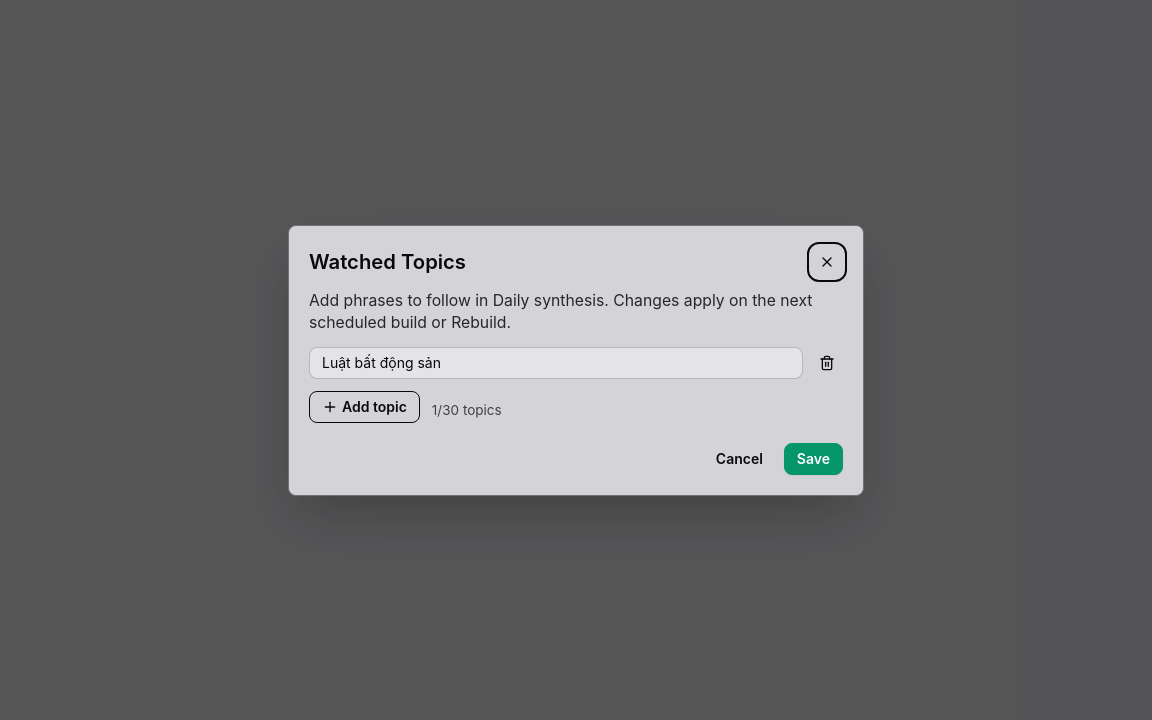
Test: Watched Topics editor › keeps edits on failed save and permits retry
Expected: the field named "Topic 1" is shown, x1=309 y1=346 x2=803 y2=378
Click the button "Save".
click(813, 458)  # box x1=784 y1=442 x2=843 y2=474
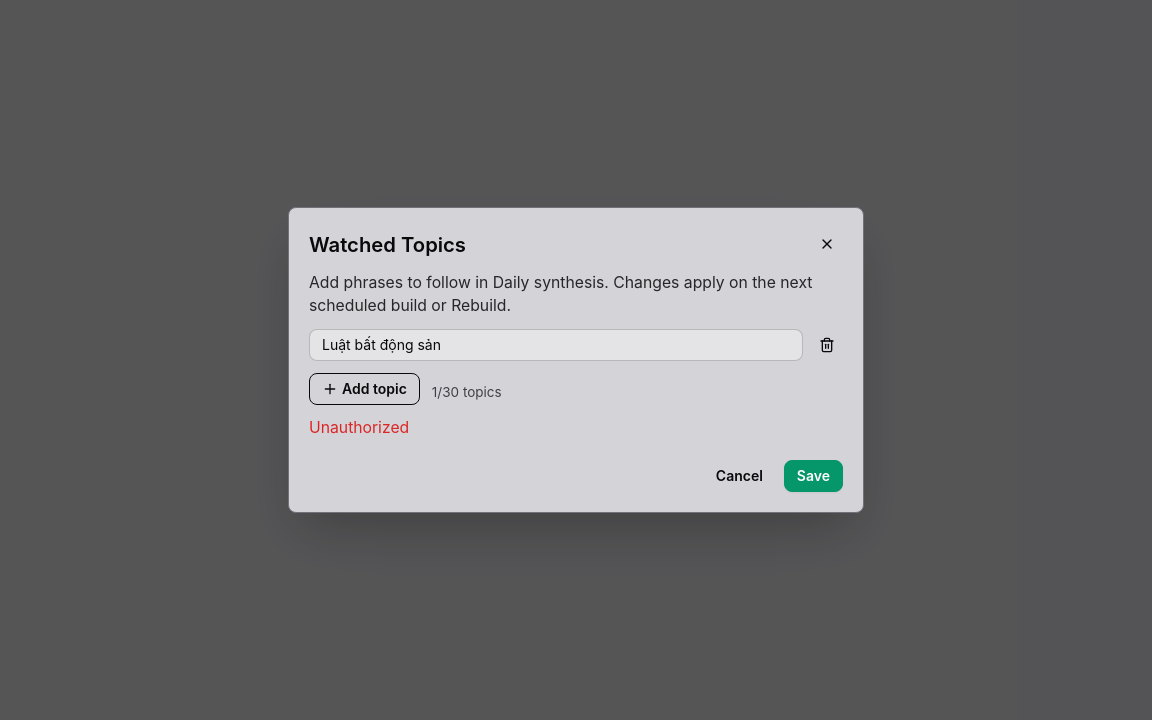
Expected: the field named "Topic 1" holds "Luật bất động sản", x1=309 y1=329 x2=803 y2=361
Expected: the message reads "Unauthorized", x1=309 y1=418 x2=409 y2=437
